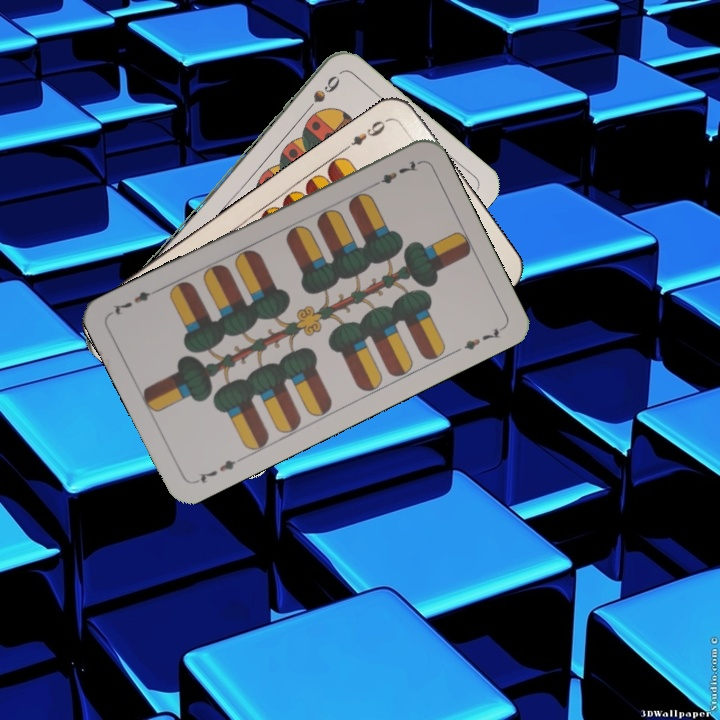E7: (367, 156, 422, 191), (190, 453, 245, 486)
E9: (340, 114, 393, 153)
S9: (298, 71, 342, 119)
